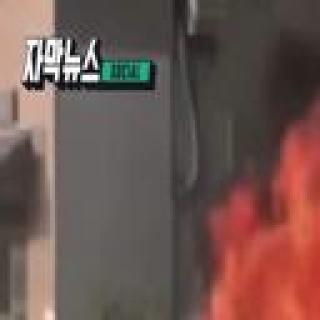fire: (221, 94, 320, 320)
